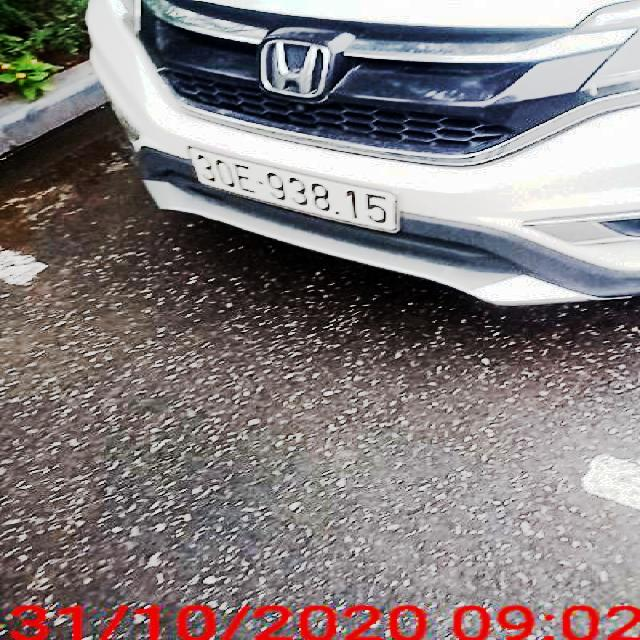license_plate: (191, 146, 399, 233)
